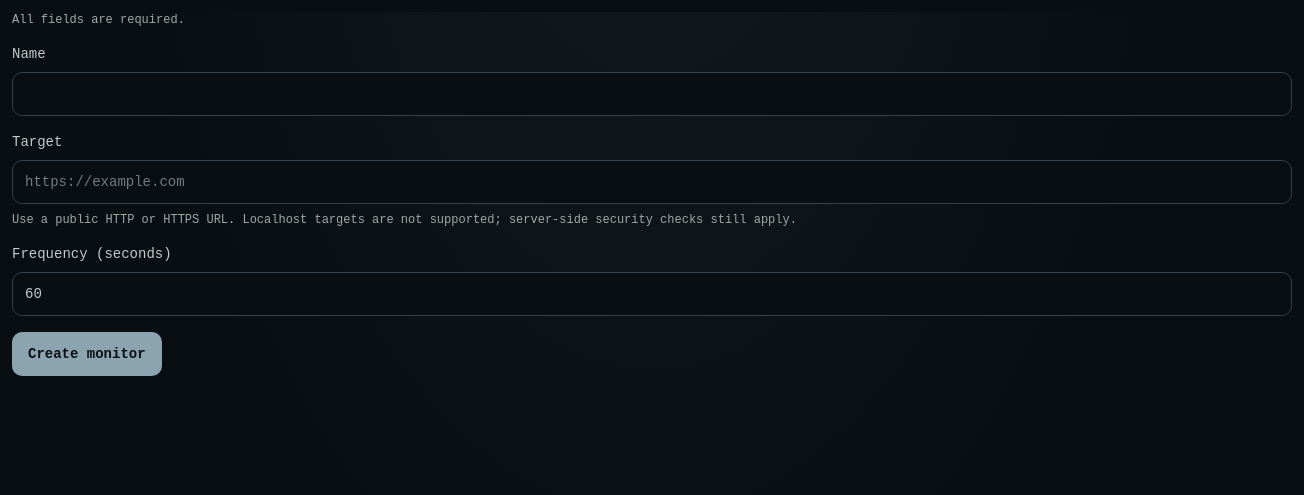
Test case: CreateMonitorForm › maps a 400 [{loc,msg}] detail list onto the offending field
Step 1. Type "x" into the field labelled "Name" → {"x": 652, "y": 94}, box [12,72,1292,116]
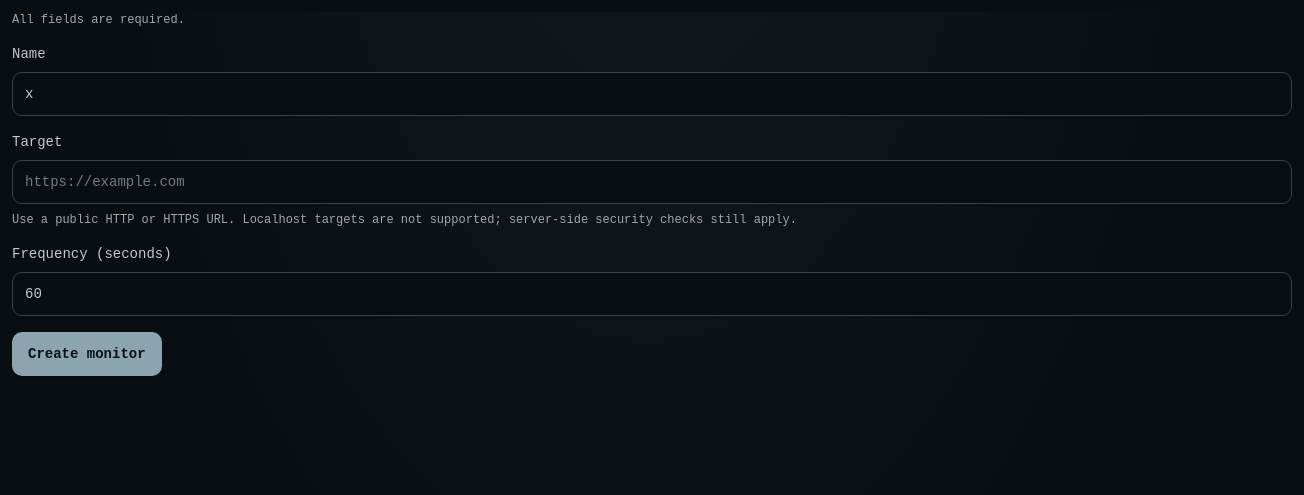
Step 2. Type "https://ok.example.com" into the field labelled "Target" → {"x": 652, "y": 182}, box [12,160,1292,204]
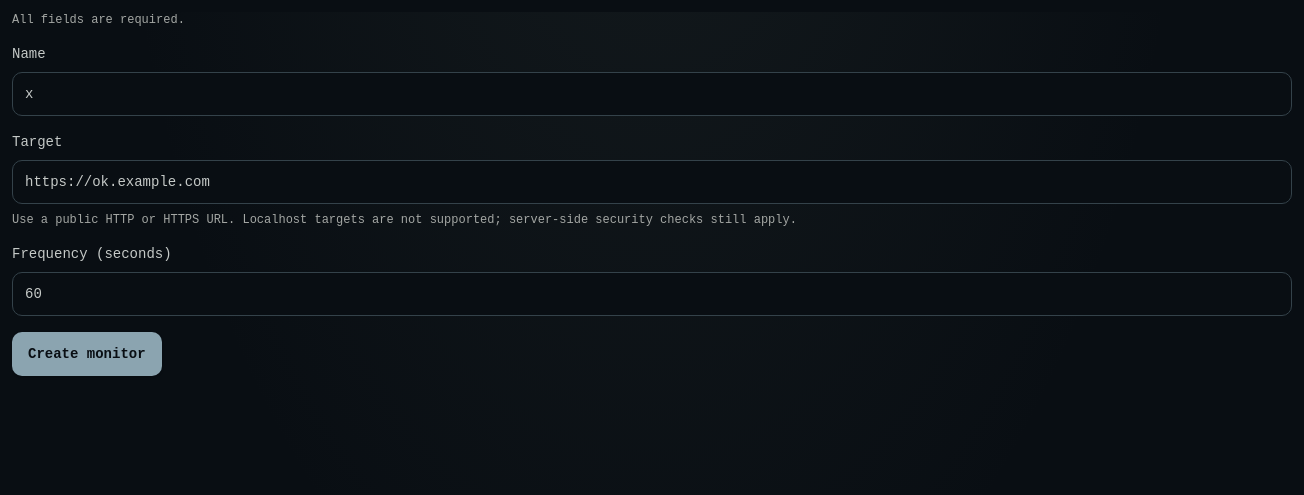
Step 3. Click the button "Create monitor" → {"x": 87, "y": 354}, box [12,332,162,376]
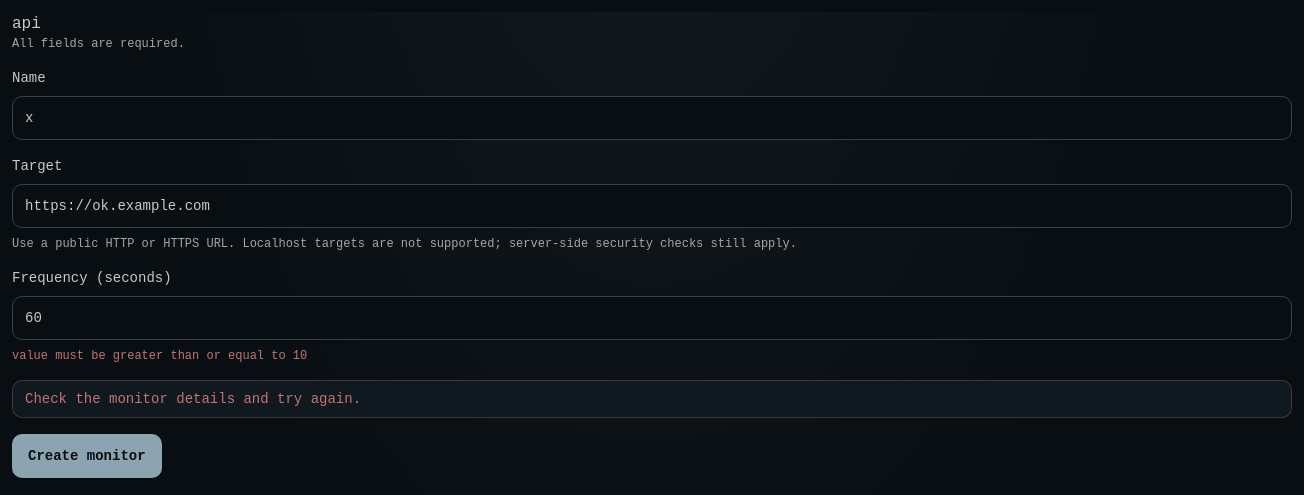
expect the text "value must be greater than or equal to 10" is shown: met, box [12,349,307,363]
